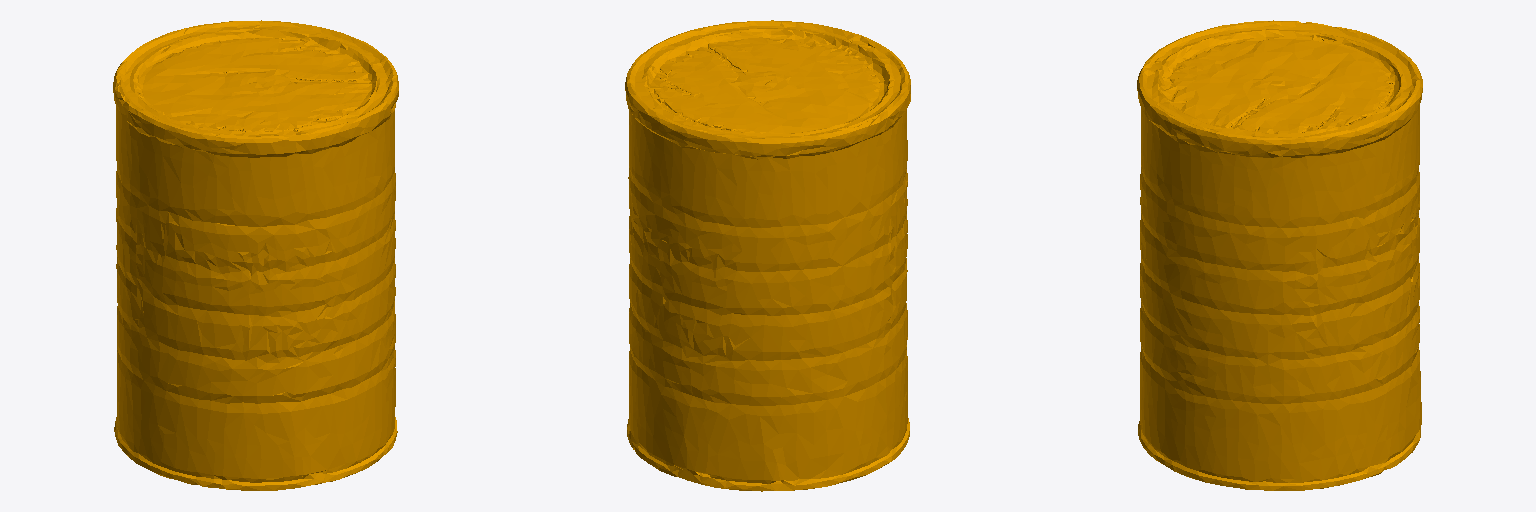
URDF robot description (model.urdf):
<?xml version="1.0" ?>
<robot name="model.urdf">
<link name="ycb">
<visual>
<origin rpy="0 0 0" xyz="0 0 0"/>
<geometry>
<mesh filename="meshes/textured_modified.obj" scale="1 1 1"/>
</geometry>
</visual>
<collision>
<origin rpy="0 0 0" xyz="0 0 0"/>
<geometry>
<mesh filename="meshes/textured_modified.obj" scale="1 1 1"/>
</geometry>
</collision>
<inertial>
<origin rpy="0 0 0" xyz="0 0 0"/>
       <mass value="0.414"/>
<inertia ixx="1" ixy="0" ixz="0" iyy="1" iyz="0" izz="1"/>
</inertial>
<contact>
<lateral_friction value="0.5"/>
<rolling_friction value="0.0"/>
<contact_cfm value="0.0"/>
<contact_erp value="1.0"/>
</contact>
</link>
</robot>

--- What the picture shows (computed from the rendered views, not written in the file) ---
The picture shows the robot from 3 angles, left to right: view 1: azimuth 30°, elevation 25°; view 2: azimuth 150°, elevation 25°; view 3: azimuth 270°, elevation 25°; orthographic projection.
Robot: model.urdf — 1 links, 0 joints (none); root link ycb; default pose: all joints at 0.
Visible links, largest first — view 1: ycb; view 2: ycb; view 3: ycb.
Boxes of the visible links, box(x1,y1,x2,y2) form: ycb: box(113, 20, 398, 490); ycb: box(625, 20, 910, 491); ycb: box(1137, 20, 1422, 490).
Bounding box of the posed robot: 0.1025 × 0.1024 × 0.1402 m (x, y, z).
Meshes: 1 distinct files referenced, 1 mesh visuals loaded (1 OBJ).